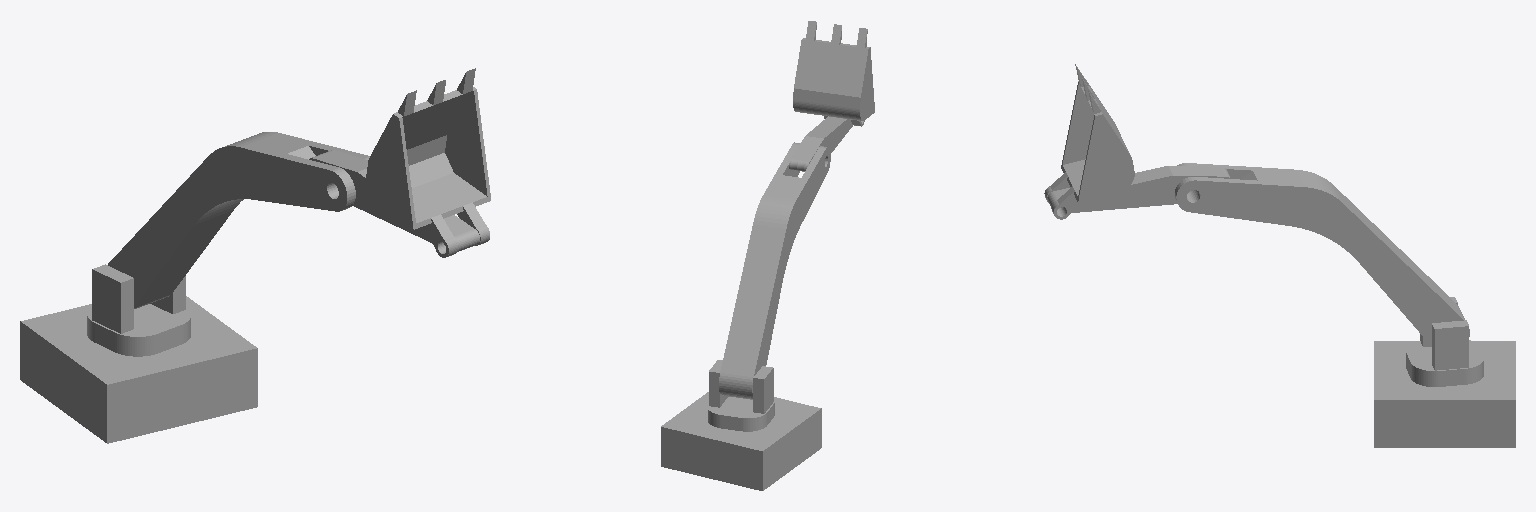
The robot description file, URDF, robot "Excavator_Final":
<?xml version="1.0" ?>
<robot name="Excavator_Final">

<material name="silver">
  <color rgba="0.700 0.700 0.700 1.000"/>
</material>

<link name="base_link">
  <inertial>
    <origin xyz="1.29758643600452e-17 0.037499999999999804 -0.0017508382705885572" rpy="0 0 0"/>
    <mass value="7.569856239706723"/>
    <inertia ixx="0.030083" iyy="0.030083" izz="0.053337" ixy="0.0" iyz="-0.0" ixz="0.0"/>
  </inertial>
  <visual>
    <origin xyz="0 0 0" rpy="0 0 0"/>
    <geometry>
      <mesh filename="../meshes/base_link.stl" scale="0.001 0.001 0.001"/>
    </geometry>
    <material name="silver"/>
  </visual>
  <collision>
    <origin xyz="0 0 0" rpy="0 0 0"/>
    <geometry>
      <mesh filename="../meshes/base_link.stl" scale="0.001 0.001 0.001"/>
    </geometry>
  </collision>
</link>

<link name="base_joint_1_1">
  <inertial>
    <origin xyz="1.2212453270876722e-17 -2.8449465006019636e-16 0.04183874882331236" rpy="0 0 0"/>
    <mass value="1.6338732668809755"/>
    <inertia ixx="0.002419" iyy="0.002916" izz="0.002414" ixy="-7.8e-05" iyz="0.0" ixz="-0.0"/>
  </inertial>
  <visual>
    <origin xyz="-0.0 -0.0375 -0.0125" rpy="0 0 0"/>
    <geometry>
      <mesh filename="../meshes/base_joint_1_1.stl" scale="0.001 0.001 0.001"/>
    </geometry>
    <material name="silver"/>
  </visual>
  <collision>
    <origin xyz="-0.0 -0.0375 -0.0125" rpy="0 0 0"/>
    <geometry>
      <mesh filename="../meshes/base_joint_1_1.stl" scale="0.001 0.001 0.001"/>
    </geometry>
  </collision>
</link>

<link name="arm_1_1">
  <inertial>
    <origin xyz="0.055942570864331395 -0.16748382923114594 0.11182731392787187" rpy="0 0 0"/>
    <mass value="3.925170481139749"/>
    <inertia ixx="0.068745" iyy="0.01806" izz="0.055643" ixy="0.007931" iyz="0.02562" ixz="-0.003915"/>
  </inertial>
  <visual>
    <origin xyz="0.029656 -0.032968 -0.107186" rpy="0 0 0"/>
    <geometry>
      <mesh filename="../meshes/arm_1_1.stl" scale="0.001 0.001 0.001"/>
    </geometry>
    <material name="silver"/>
  </visual>
  <collision>
    <origin xyz="0.029656 -0.032968 -0.107186" rpy="0 0 0"/>
    <geometry>
      <mesh filename="../meshes/arm_1_1.stl" scale="0.001 0.001 0.001"/>
    </geometry>
  </collision>
</link>

<link name="Pole_1">
  <inertial>
    <origin xyz="0.032426 -0.099650 -0.053902" rpy="0 0 0"/>
    <mass value="2.0830208694389847"/>
    <inertia ixx="0.008911" iyy="0.001597" izz="0.008065" ixy="0.001144" iyz="0.002721" ixz="-0.000416"/>
  </inertial>
  <visual>
    <origin xyz="-0.038947 0.329902 -0.358200" rpy="0 0 0"/>
    <geometry>
      <mesh filename="../meshes/Pole_1.stl" scale="0.001 0.001 0.001"/>
    </geometry>
    <material name="silver"/>
  </visual>
  <collision>
    <origin xyz="-0.038947 0.329902 -0.358200" rpy="0 0 0"/>
    <geometry>
      <mesh filename="../meshes/Pole_1.stl" scale="0.001 0.001 0.001"/>
    </geometry>
  </collision>
</link>

<link name="Bucket_1">
  <inertial>
    <origin xyz="0.001632 -0.123214 0.037475" rpy="0 0 0"/>
    <mass value="2.1376034633898464"/>
    <inertia ixx="0.005846" iyy="0.004627" izz="0.007945" ixy="0.000191" iyz="-7.8e-05" ixz="1.2e-05"/>
  </inertial>
  <visual>
    <origin xyz="-0.101349 0.513179 -0.352900" rpy="0 0 0"/>
    <geometry>
      <mesh filename="../meshes/Bucket_1.stl" scale="0.001 0.001 0.001"/>
    </geometry>
    <material name="silver"/>
  </visual>
  <collision>
    <origin xyz="-0.101349 0.513179 -0.352900" rpy="0 0 0"/>
    <geometry>
      <mesh filename="../meshes/Bucket_1.stl" scale="0.001 0.001 0.001"/>
    </geometry>
  </collision>
</link>

<joint name="swing_joint" type="continuous">
  <origin xyz="0.0 0.0375 0.0125" rpy="0 0 0"/>
  <parent link="base_link"/>
  <child link="base_joint_1_1"/>
  <axis xyz="0.0 0.0 1.0"/>
</joint>

<joint name="arm_joint" type="continuous">
  <origin xyz="-0.029656 -0.004532 0.094686" rpy="0 0 0"/>
  <parent link="base_joint_1_1"/>
  <child link="arm_1_1"/>
  <axis xyz="-0.988524 -0.151061 0.0"/>
</joint>

<joint name="pole_joint" type="continuous">
  <origin xyz="0.068603 -0.362870 0.251014" rpy="0 0 0"/>
  <parent link="arm_1_1"/>
  <child link="Pole_1"/>
  <axis xyz="0.988524 0.151061 -0.0"/>
</joint>

<joint name="bucket_joint" type="continuous">
  <origin xyz="0.062402 -0.183277 -0.005300" rpy="0 0 0"/>
  <parent link="Pole_1"/>
  <child link="Bucket_1"/>
  <axis xyz="0.988524 0.151061 -0.0"/>
</joint>

</robot>

--- Render facts (derived) ---
The picture shows the robot from 3 angles, left to right: view 1: azimuth 30°, elevation 25°; view 2: azimuth 150°, elevation 25°; view 3: azimuth 270°, elevation 25°; orthographic projection.
Model Excavator_Final with 5 links and 4 joints (4 continuous), rooted at base_link, posed all joints at 0.
Links seen in each view (by area): view 1: base_link, arm_1_1, Bucket_1, base_joint_1_1, Pole_1; view 2: arm_1_1, base_link, Bucket_1, base_joint_1_1, Pole_1; view 3: arm_1_1, base_link, Bucket_1, base_joint_1_1, Pole_1.
Link boxes in pixels (bbox=[...]): base_link: bbox=[20, 296, 257, 443]; arm_1_1: bbox=[108, 132, 369, 308]; Bucket_1: bbox=[366, 68, 490, 257]; base_joint_1_1: bbox=[87, 264, 190, 356]; Pole_1: bbox=[309, 150, 479, 251]; arm_1_1: bbox=[719, 142, 830, 399]; base_link: bbox=[661, 392, 821, 490]; Bucket_1: bbox=[793, 21, 874, 126]; base_joint_1_1: bbox=[708, 360, 774, 431]; Pole_1: bbox=[789, 116, 852, 171]; arm_1_1: bbox=[1175, 163, 1469, 345]; base_link: bbox=[1374, 341, 1515, 447]; Bucket_1: bbox=[1044, 64, 1134, 219]; base_joint_1_1: bbox=[1406, 297, 1483, 386]; Pole_1: bbox=[1047, 166, 1230, 212].
Bounding box of the posed robot: 0.2683 × 0.6671 × 0.5798 m (x, y, z).
5 mesh visuals loaded from 5 distinct referenced files (5 binary STL).
